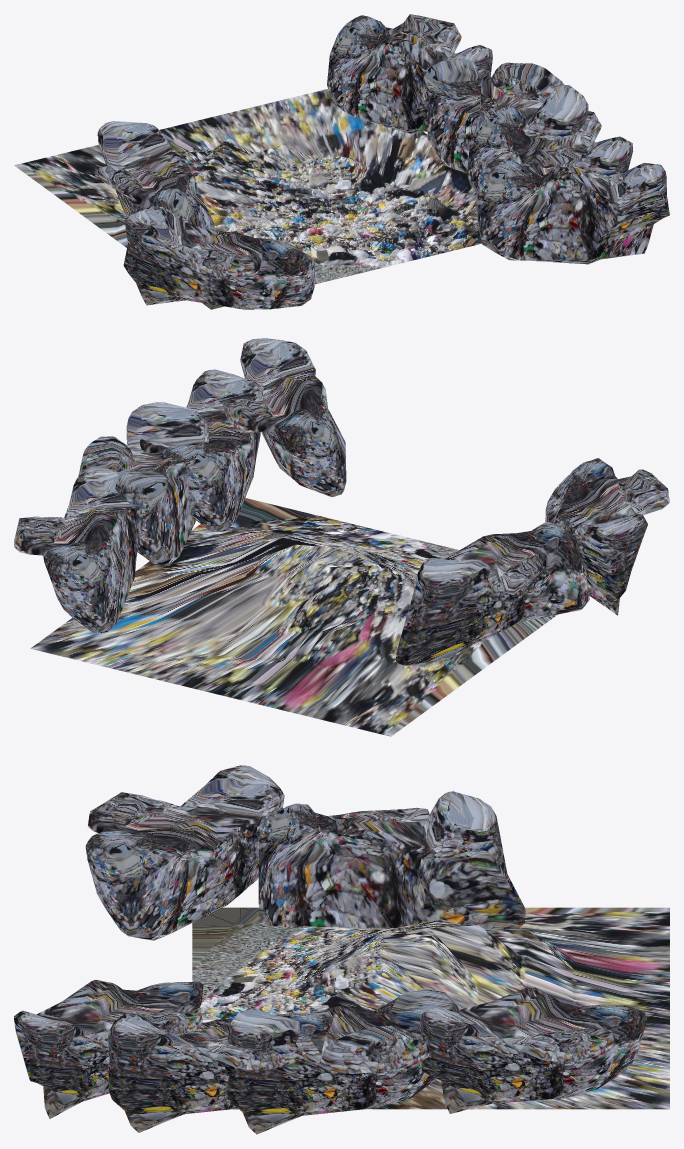
The model's file is trash2.fbx.
The picture shows the model from 3 angles, top to bottom: view 1: azimuth 30°, elevation 25°; view 2: azimuth 150°, elevation 25°; view 3: azimuth 270°, elevation 25°; orthographic projection. The views are drawn at different scales.
Visible parts, largest first — view 1: Landscape, Cube_1, Cube_3, Cube_4, Cube_5, Cube_7, Cube_2; view 2: Landscape, Cube_7, Cube_4, Cube_1, Cube_5, Cube_3, Cube_2; view 3: Landscape, Cube_7, Cube_3, Cube_4, Cube_5, Cube_2, Cube_1.
Boxes of the visible parts, x1,y1,x2,y2 form: Landscape: [14, 89, 481, 309]; Cube_1: [477, 149, 669, 264]; Cube_3: [123, 206, 315, 309]; Cube_4: [327, 14, 492, 133]; Cube_5: [423, 58, 588, 173]; Cube_7: [95, 121, 214, 229]; Cube_2: [467, 104, 632, 194]; Landscape: [30, 498, 557, 736]; Cube_7: [396, 522, 589, 665]; Cube_4: [14, 467, 142, 633]; Cube_1: [222, 338, 346, 497]; Cube_5: [78, 402, 208, 565]; Cube_3: [545, 458, 669, 615]; Cube_2: [140, 369, 263, 532]; Landscape: [192, 907, 669, 1109]; Cube_7: [258, 791, 525, 929]; Cube_3: [85, 765, 284, 940]; Cube_4: [419, 987, 647, 1113]; Cube_5: [226, 989, 459, 1134]; Cube_2: [107, 1011, 333, 1132]; Cube_1: [14, 980, 203, 1118].
Bounding box in the file's own units: 1426 × 308 × 1398.
